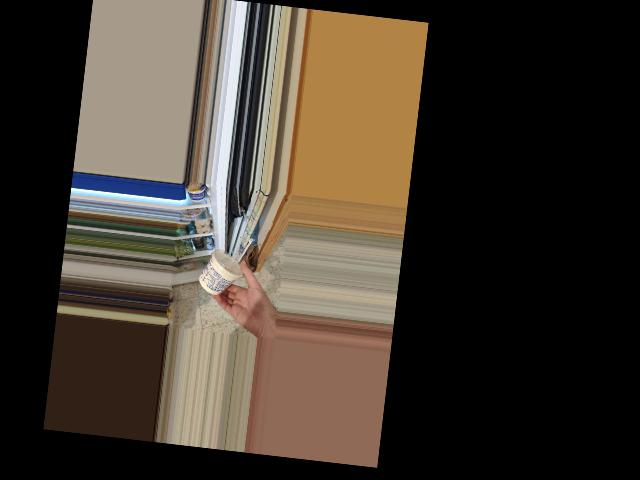cotage: (199, 246, 244, 290)
